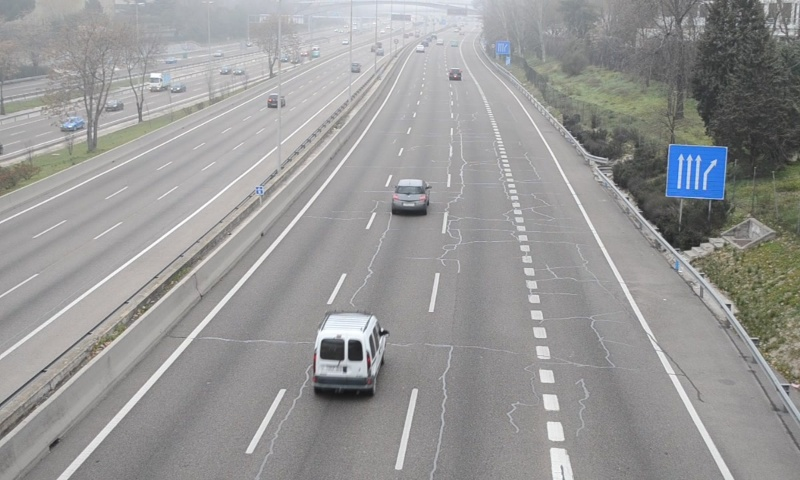car: (392, 178, 429, 214)
van: (312, 314, 385, 391)
